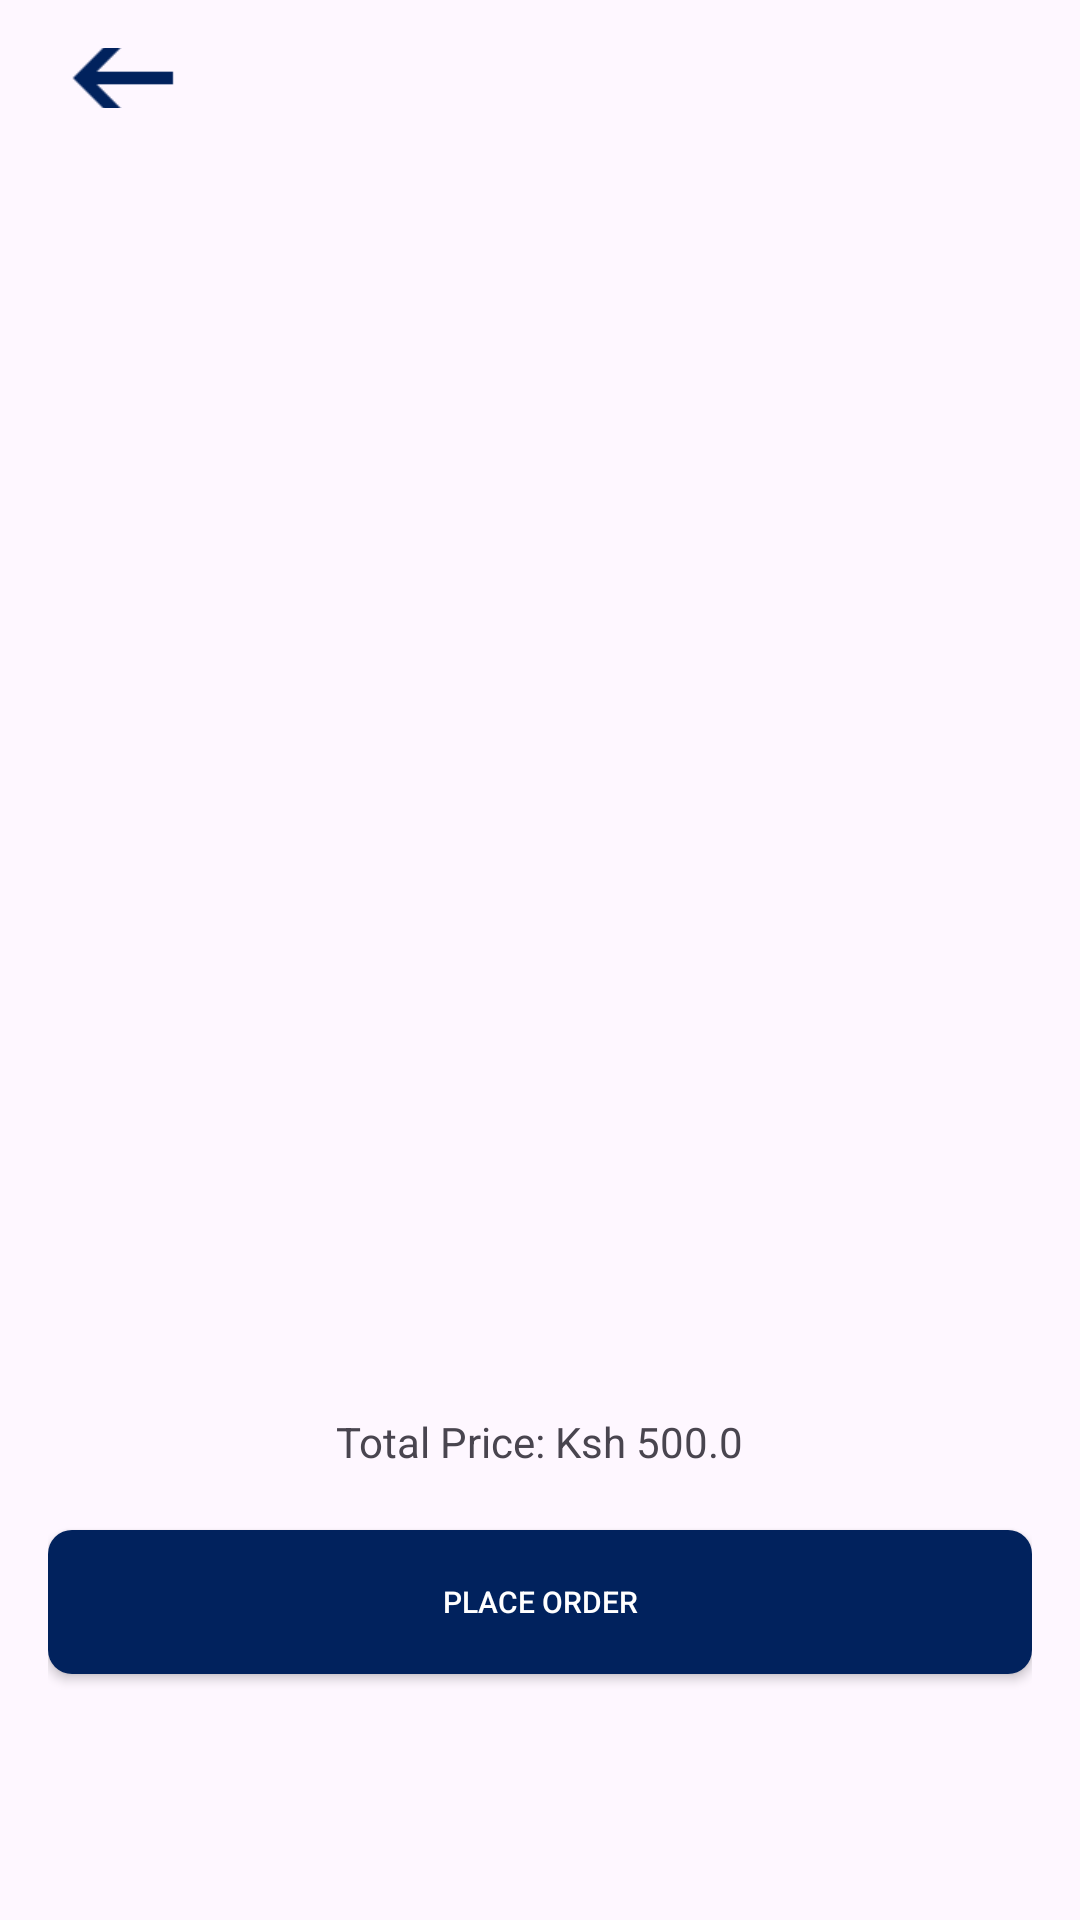

Where to tap for icons on this 1080px x 1920px app screen, as point (x, y):
backarrow: point (123, 78)
